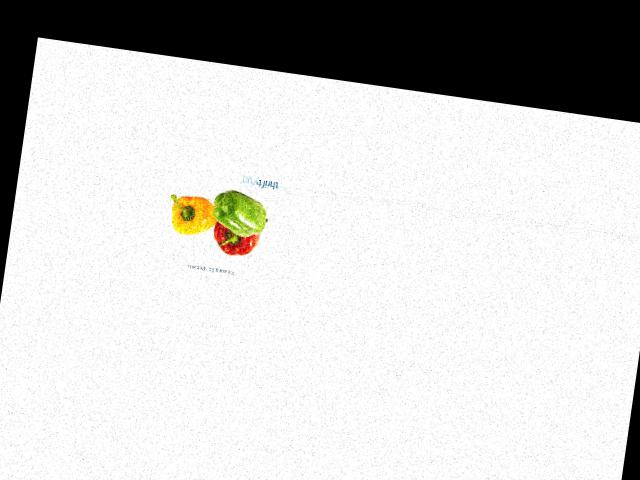bell_pepper: (205, 182, 273, 238)
